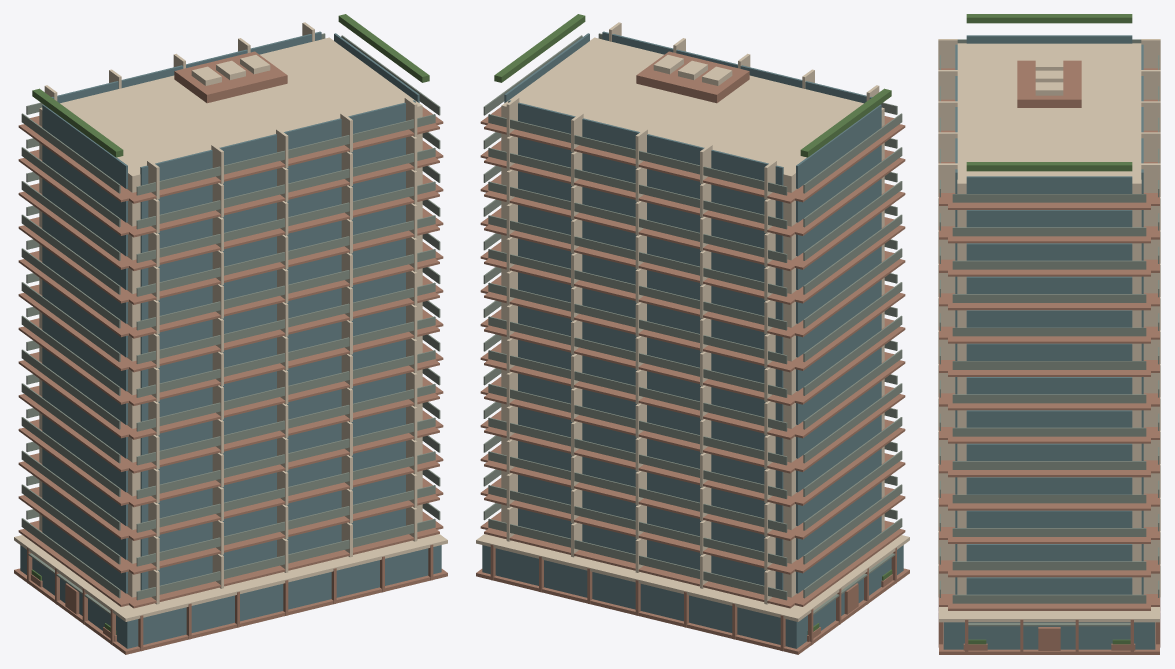
Rendered from architecture-2.glb.
The picture shows the model from 3 angles, left to right: view 1: azimuth 30°, elevation 25°; view 2: azimuth 150°, elevation 25°; view 3: azimuth 270°, elevation 25°; orthographic projection.
Parts seen in each view (by area): view 1: Architecture_2_1, Architecture_2_3, Architecture_2_2, Architecture_2_0, Architecture_2_4; view 2: Architecture_2_1, Architecture_2_3, Architecture_2_2, Architecture_2_0, Architecture_2_4; view 3: Architecture_2_1, Architecture_2_0, Architecture_2_2, Architecture_2_3, Architecture_2_4.
Boxes of the visible parts, x1,y1,x2,y2 form: Architecture_2_1: (20,31,441,648); Architecture_2_3: (21,33,440,614); Architecture_2_2: (14,51,447,654); Architecture_2_0: (14,22,447,621); Architecture_2_4: (31,14,429,634); Architecture_2_1: (482,31,903,648); Architecture_2_3: (483,33,902,614); Architecture_2_2: (476,51,909,654); Architecture_2_0: (476,22,909,621); Architecture_2_4: (494,14,892,634); Architecture_2_1: (943,35,1155,649); Architecture_2_0: (938,39,1160,622); Architecture_2_2: (938,60,1160,654); Architecture_2_3: (939,39,1159,626); Architecture_2_4: (966,14,1132,644).
Size of the model in its own units: 40.05 by 60.15 by 24.1.
